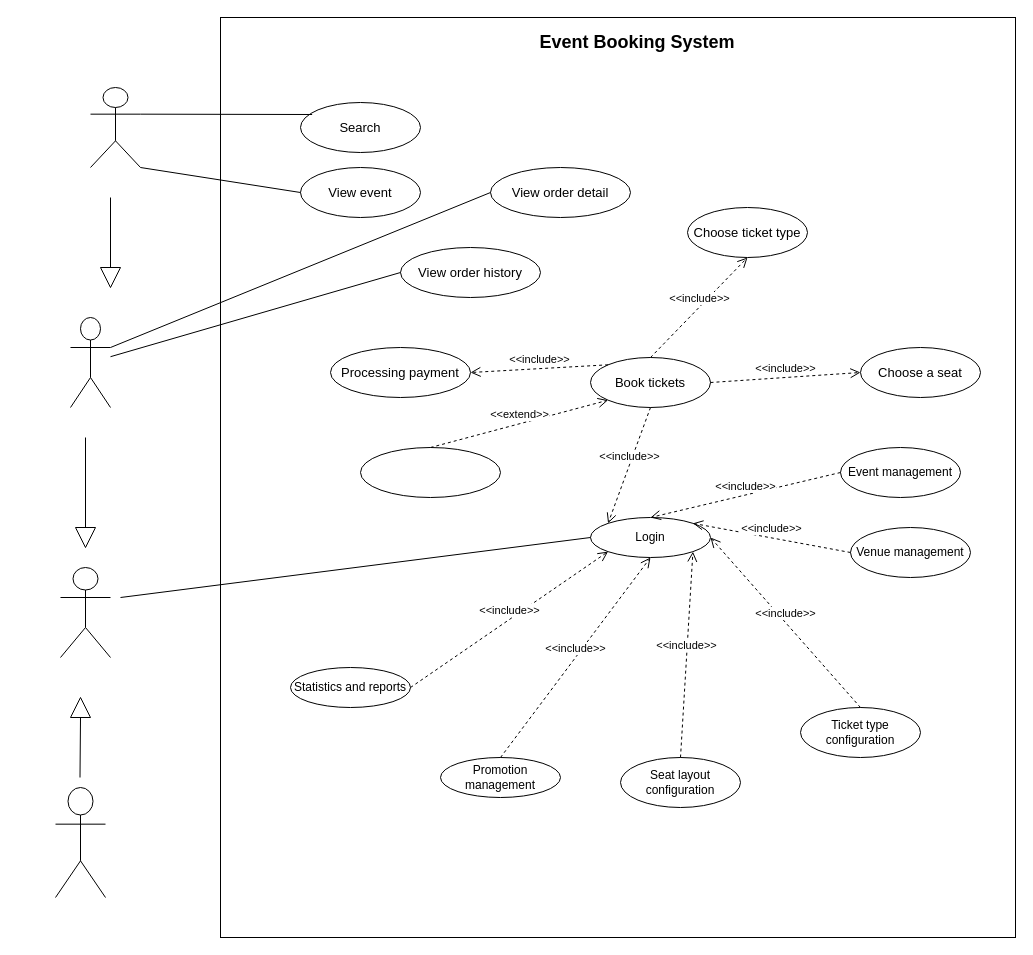
Image size: 1033x955. Some labels were removed from this diagram. Each missing label, with the box of its shape:
ADMIN/STAFF: (54, 786, 106, 898)
Apply discount code: (360, 446, 500, 498)
AUTHENTICATED USER: (60, 566, 110, 658)
REGISTERED USER: (70, 316, 110, 408)
USER: (90, 86, 140, 168)
